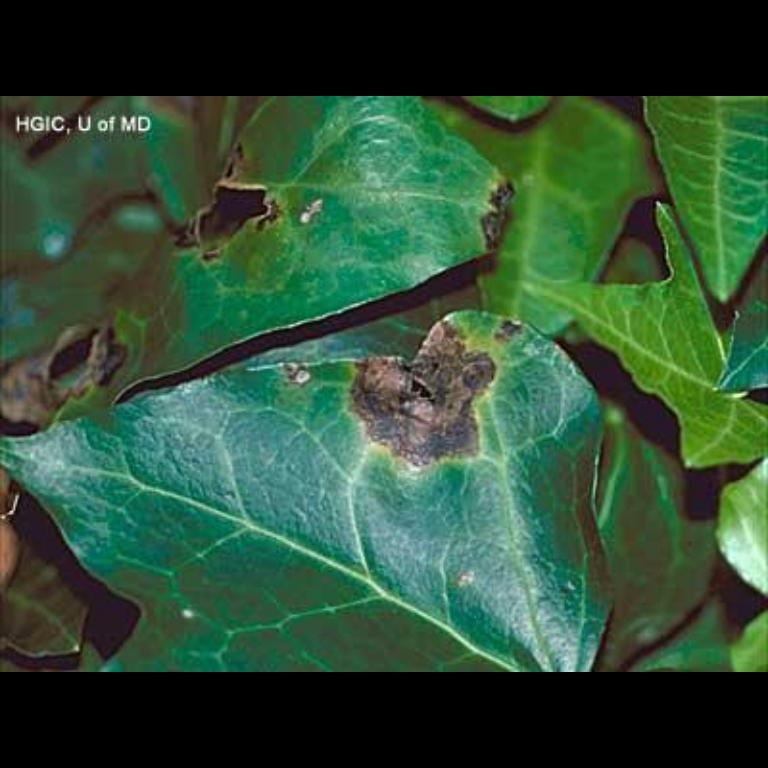blight: (354, 343, 498, 471)
